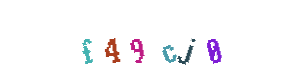0: (174, 0, 254, 80)
4: (91, 0, 171, 80)
9: (95, 0, 175, 80)
C: (109, 0, 189, 80)
F: (72, 0, 152, 80)
J: (146, 0, 226, 80)
